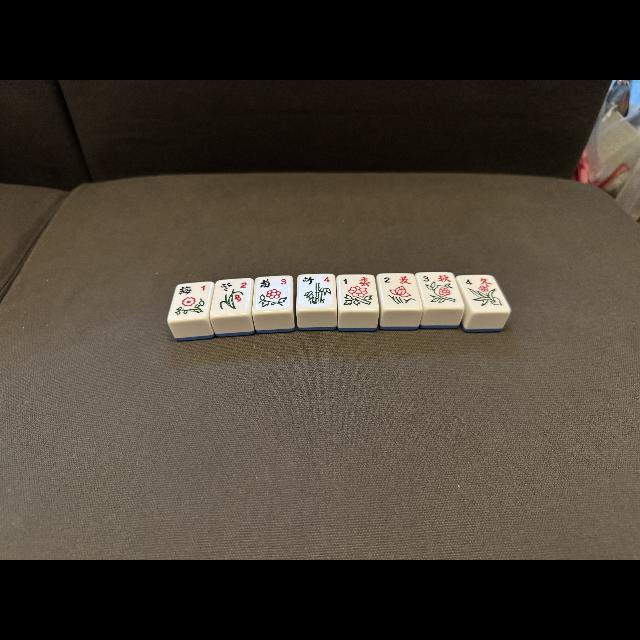f1: (172, 282, 210, 296)
f2: (214, 280, 252, 292)
f3: (254, 276, 292, 290)
f4: (298, 274, 336, 286)
s1: (339, 274, 375, 288)
s2: (380, 274, 414, 288)
s3: (419, 272, 455, 286)
s4: (460, 276, 498, 290)
